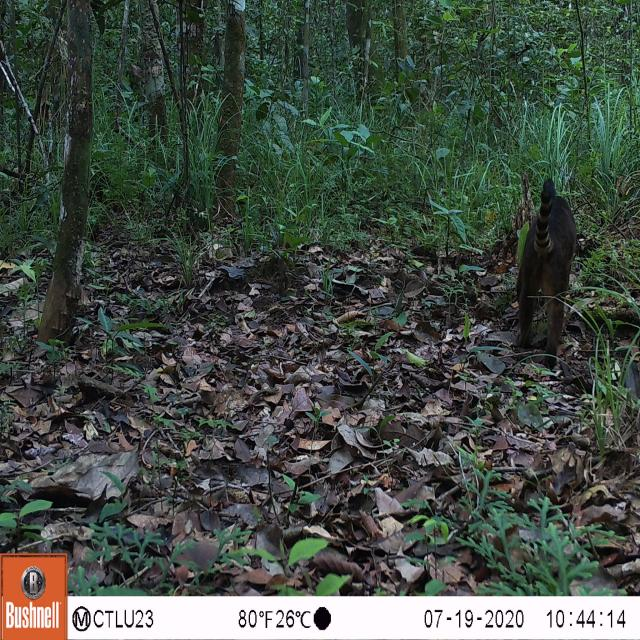South American Coati: (503, 160, 584, 372)
